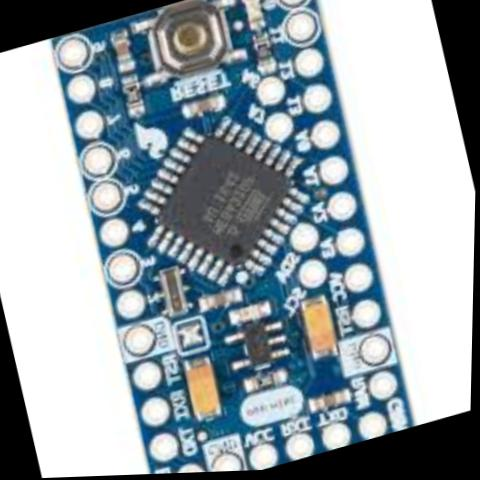Arduino-Pro-Mini: (18, 0, 452, 479)
